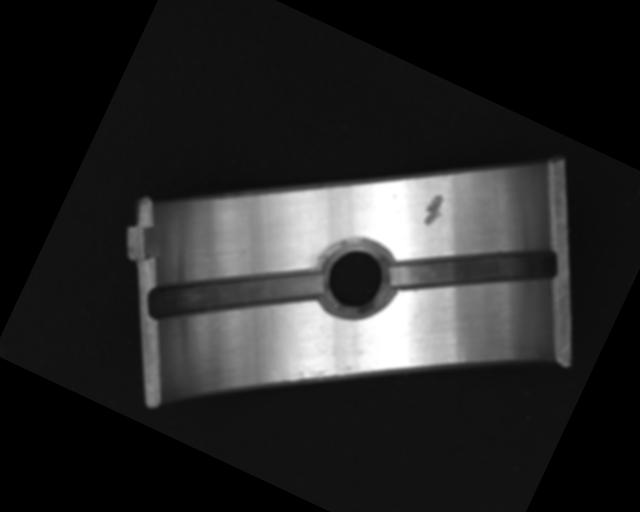bruise: (418, 190, 450, 229)
gap: (143, 211, 328, 376), (386, 191, 563, 345)
hole: (309, 225, 404, 327)
